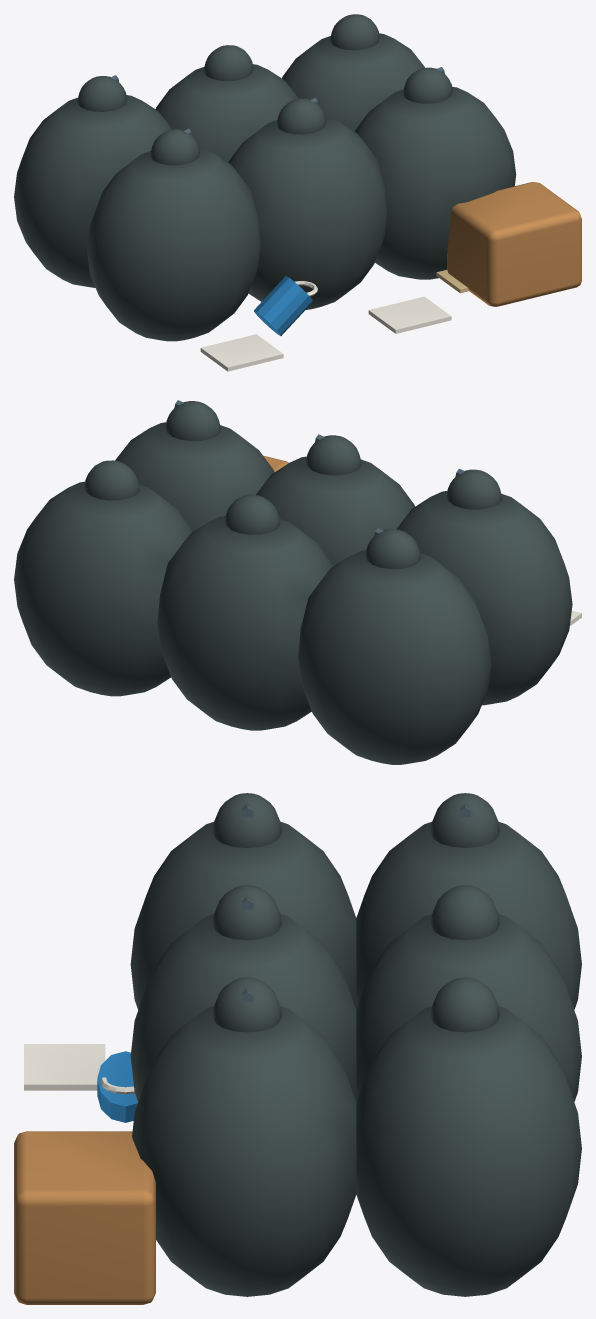
Rendered from waste-pile.glb.
3 renders of one model, top to bottom at view 1: azimuth 30°, elevation 25°; view 2: azimuth 150°, elevation 25°; view 3: azimuth 270°, elevation 25°, orthographic. The views are drawn at different scales.
Visible parts, largest first — view 1: tied rubbish bag, cardboard, discarded paper, discarded drink can; view 2: tied rubbish bag; view 3: tied rubbish bag, cardboard, discarded paper, discarded drink can.
Boxes of the visible parts, x1=… form: tied rubbish bag: x1=14, y1=14, x2=516, y2=341; cardboard: x1=447, y1=182, x2=581, y2=306; discarded paper: x1=200, y1=281, x2=451, y2=371; discarded drink can: x1=254, y1=276, x2=313, y2=335; tied rubbish bag: x1=14, y1=401, x2=572, y2=764; tied rubbish bag: x1=130, y1=793, x2=581, y2=1296; cardboard: x1=14, y1=1131, x2=155, y2=1304; discarded paper: x1=24, y1=1044, x2=134, y2=1094; discarded drink can: x1=97, y1=1051, x2=137, y2=1122.
Size of the model in its own units: 1.4 by 0.665 by 1.12.
